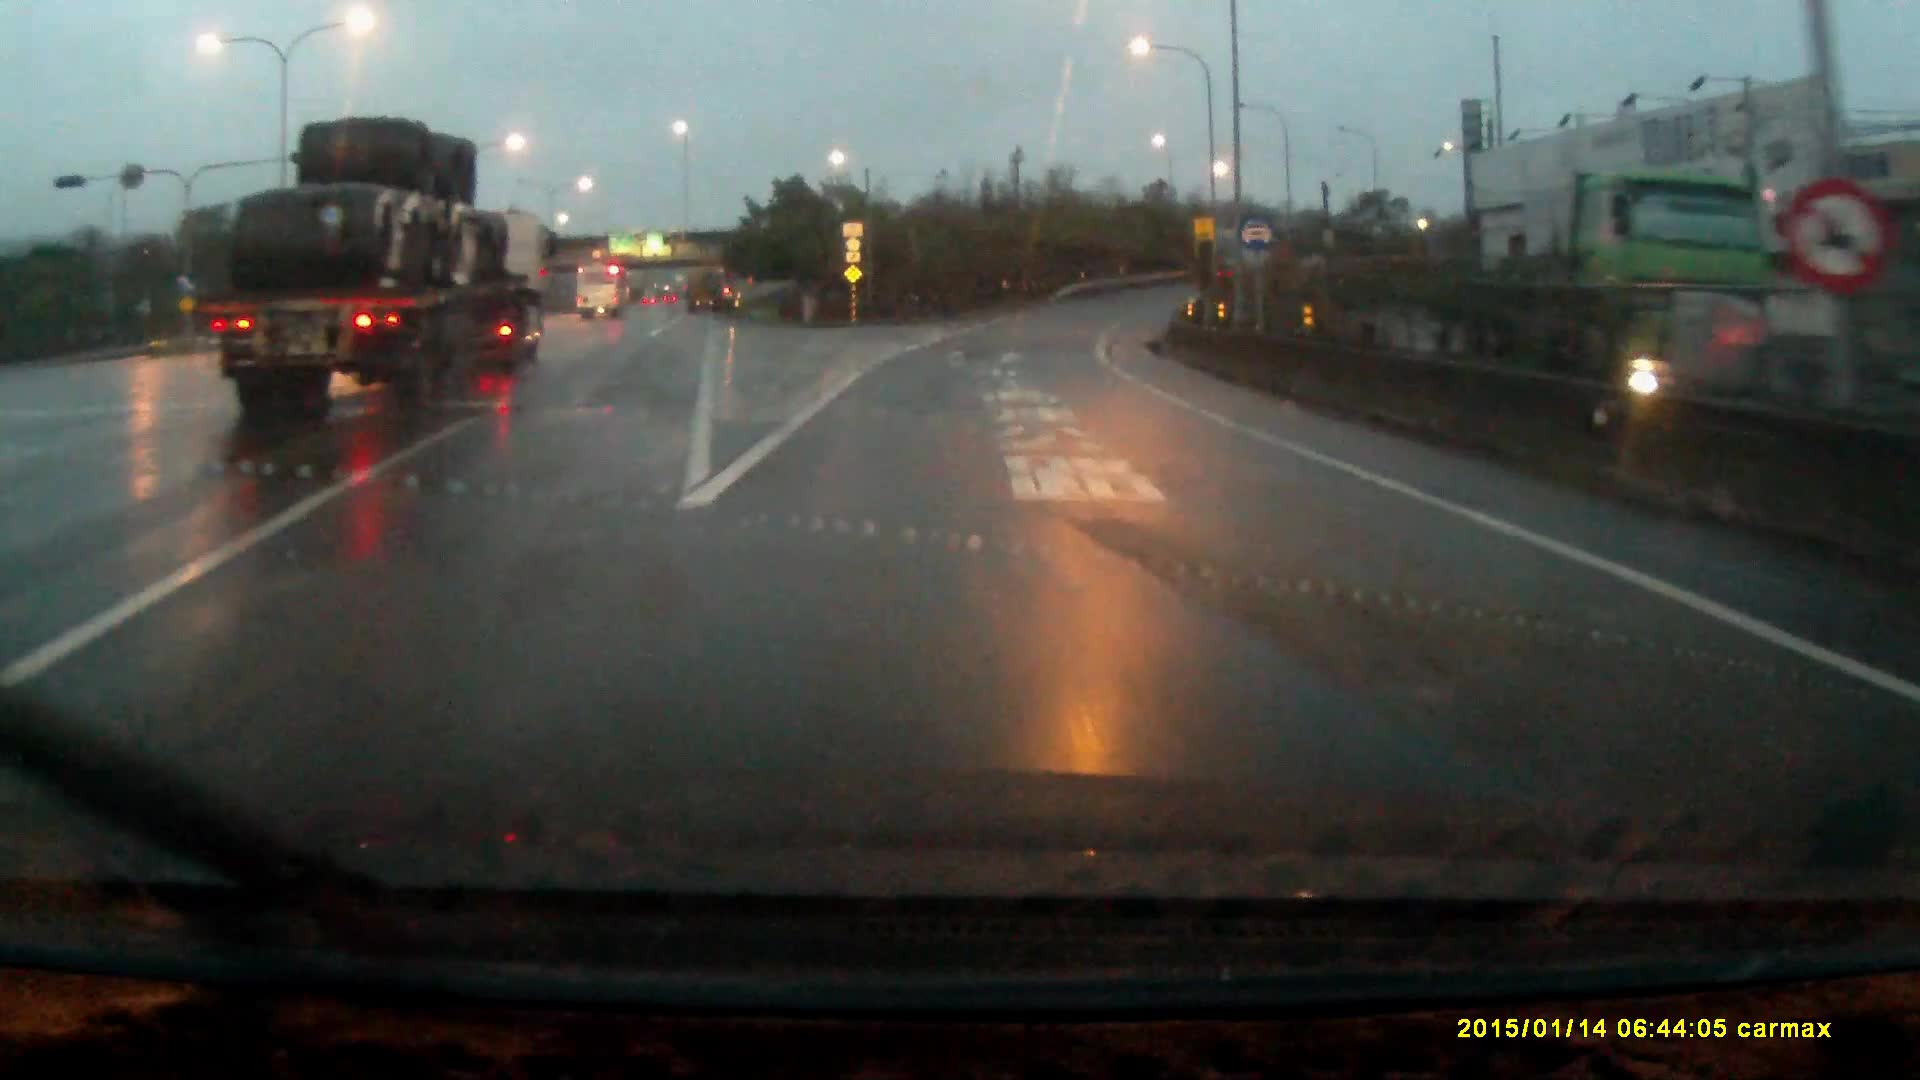vehicle: (203, 116, 555, 410), (574, 262, 628, 320)
